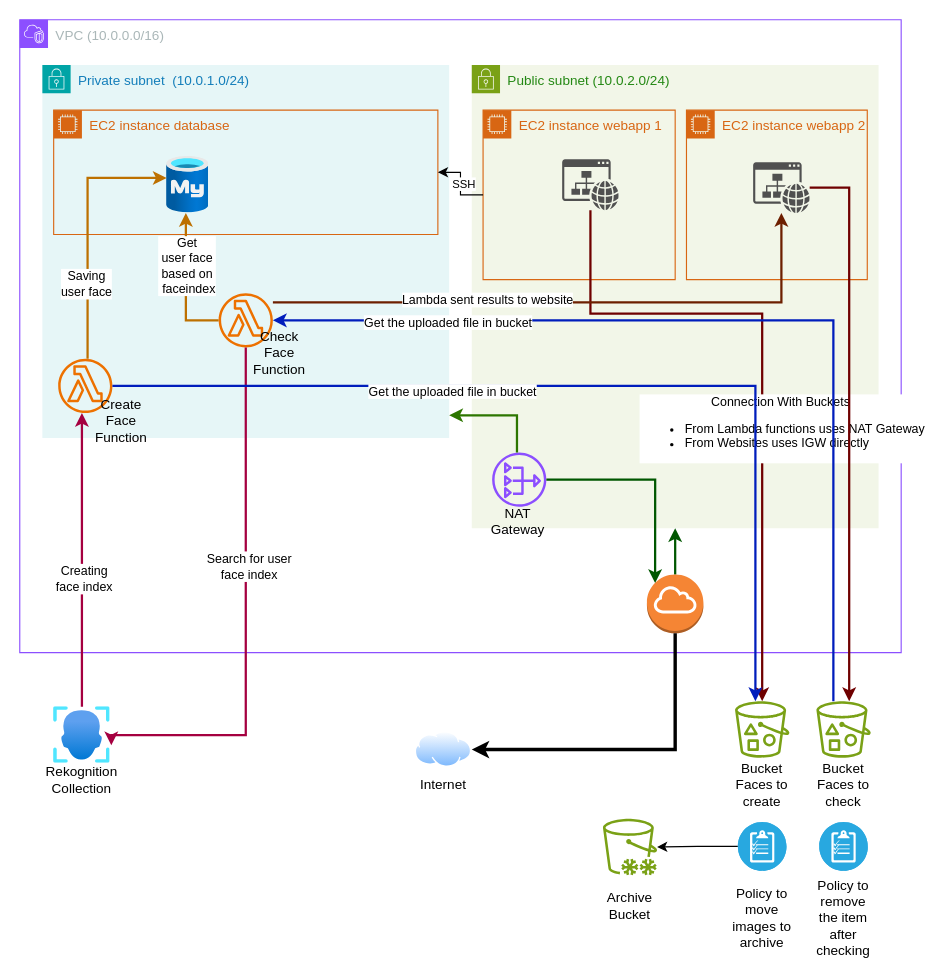
This 945x979 diagram has some shape labels left out. Here are the shapes that lost their labels. From the top down, the centre of each, then its label:
the point at 590,184: uploading website
the point at 781,187: checking website
the point at 674,603: IGW
